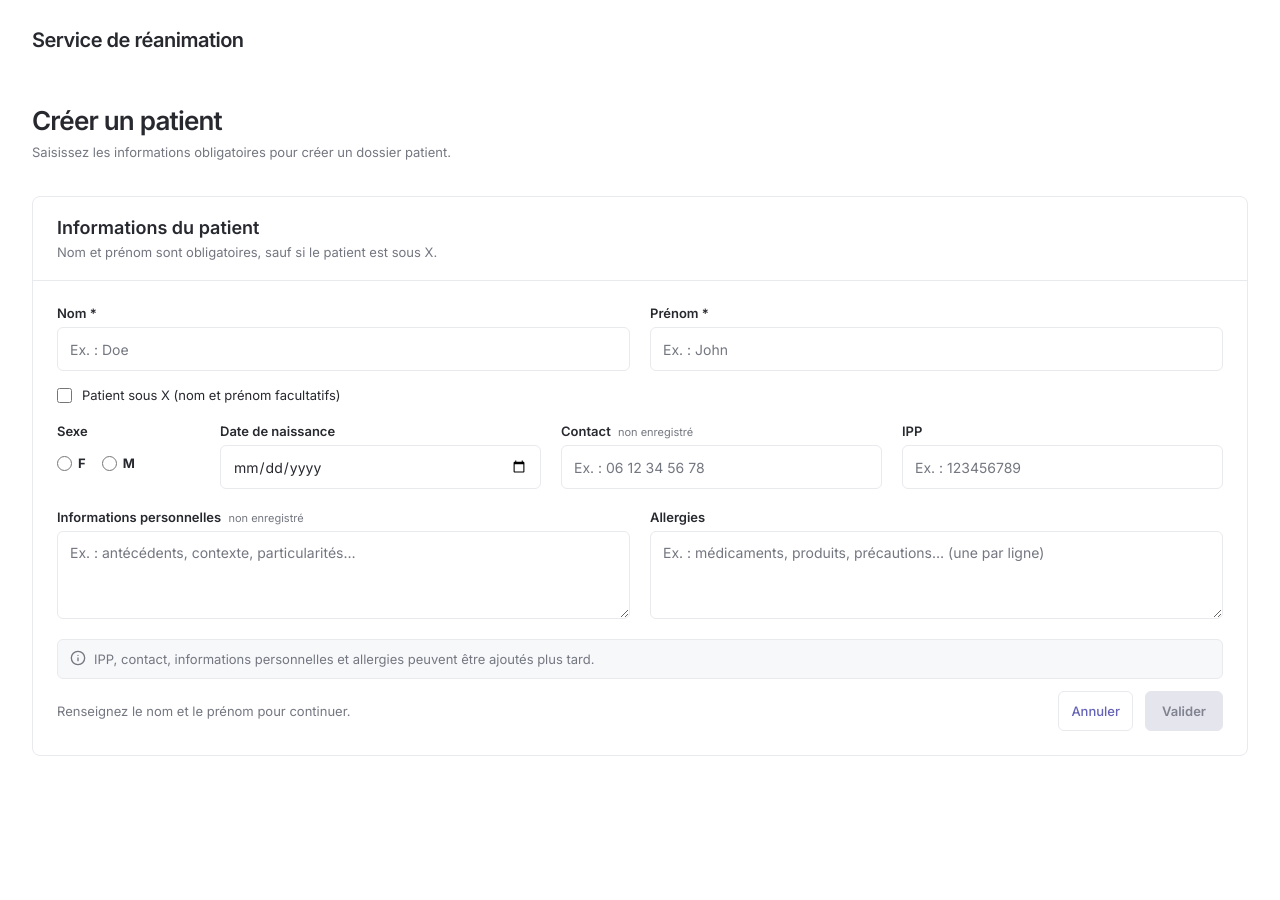
Test: requires last and first name before Valider is enabled
Check: the submit button is disabled, box [1145,691,1223,731]
Type "Doxa" into the field with placeholder "Ex. : Doe".
click(344, 349); type("Doxa")  # box [57,327,630,371]
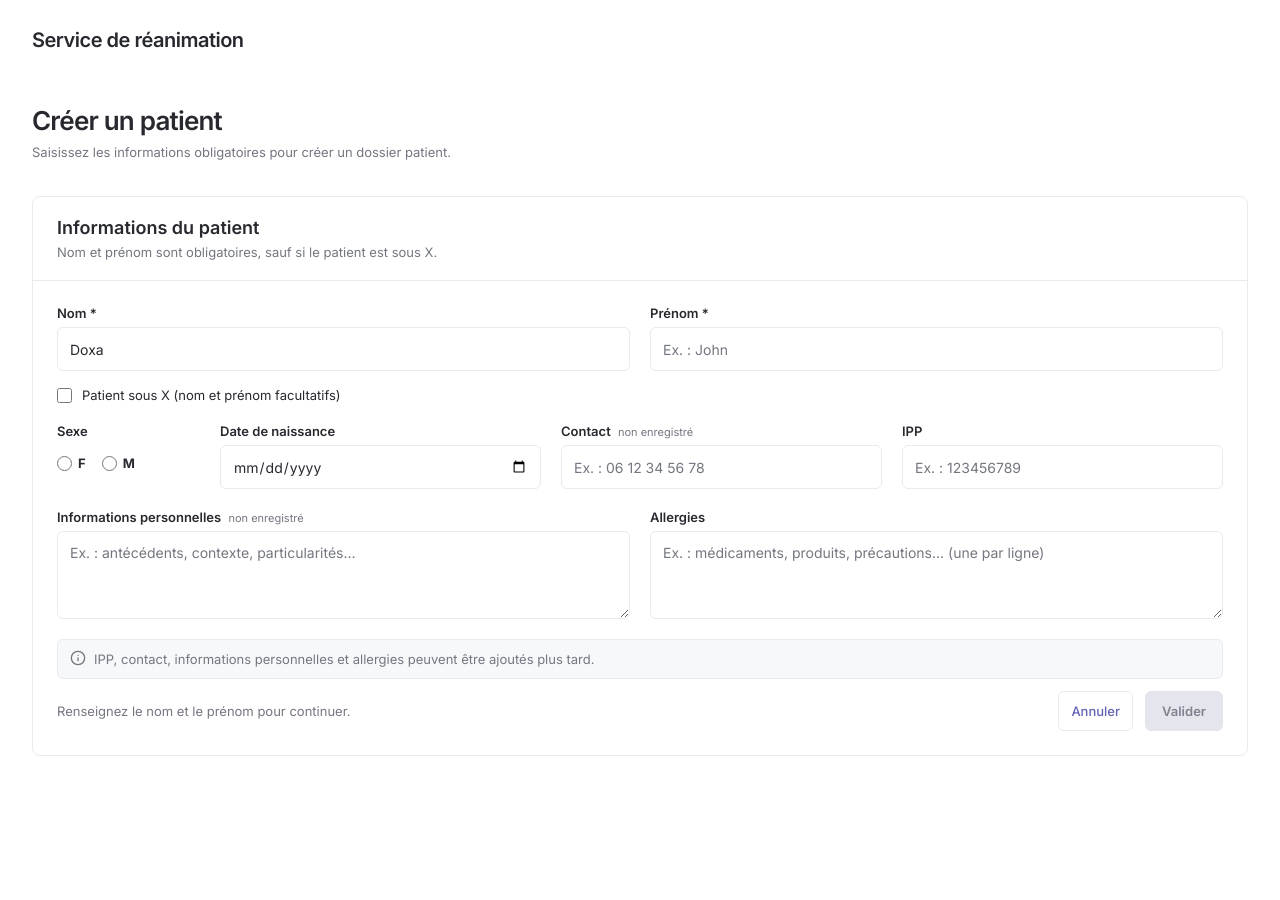
Check: the submit button is disabled, box [1145,691,1223,731]
Type "Loui" into the field with placeholder "Ex. : John".
click(936, 349); type("Loui")  # box [650,327,1223,371]
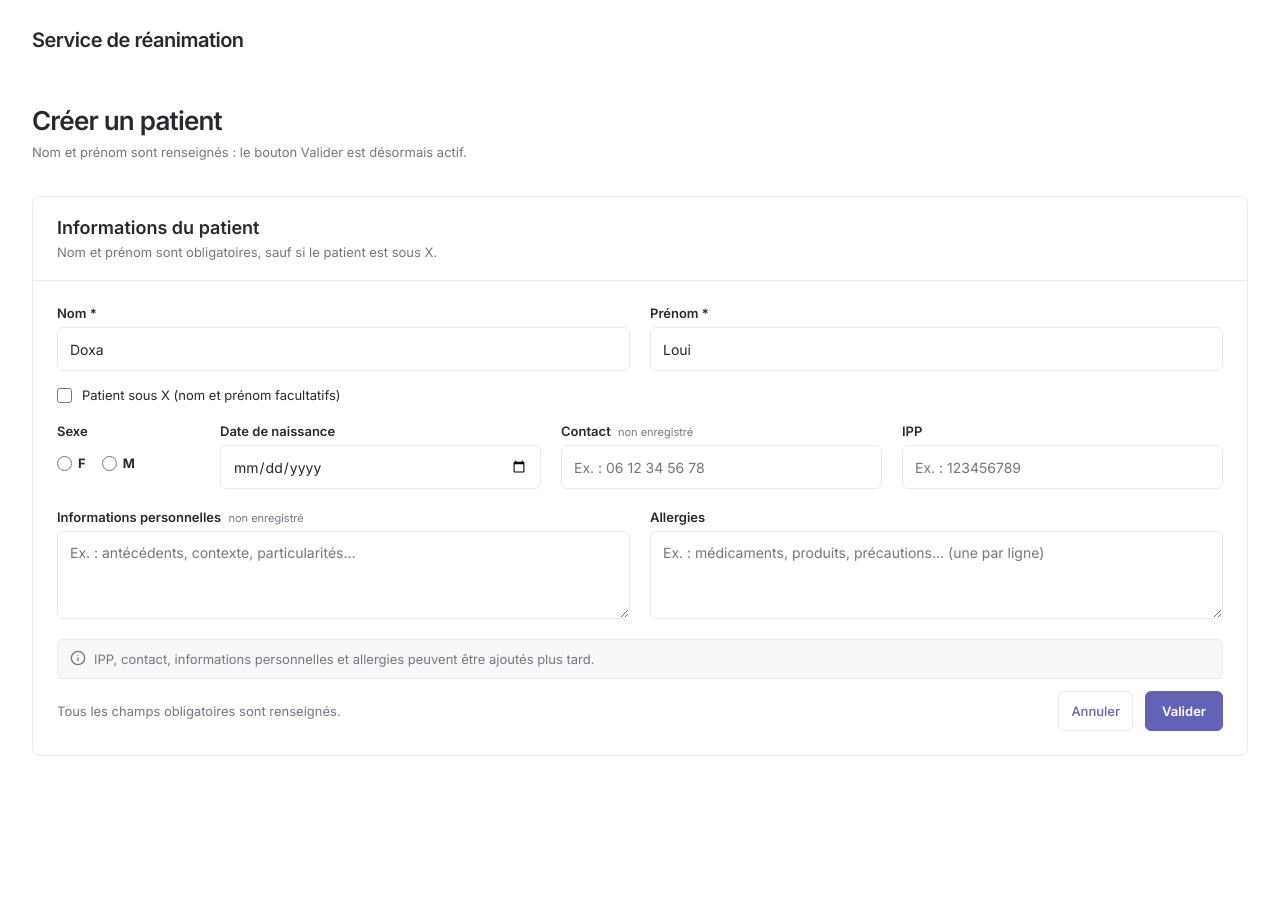
Check: the submit button is enabled, box [1145,691,1223,731]
Check: the text "Tous les champs obligatoires sont renseignés." is shown, box [57,703,341,719]
